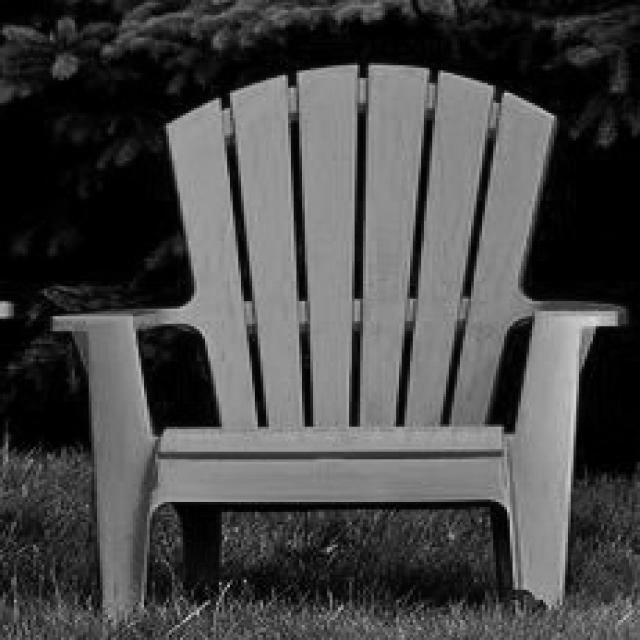chair: (46, 61, 628, 622)
